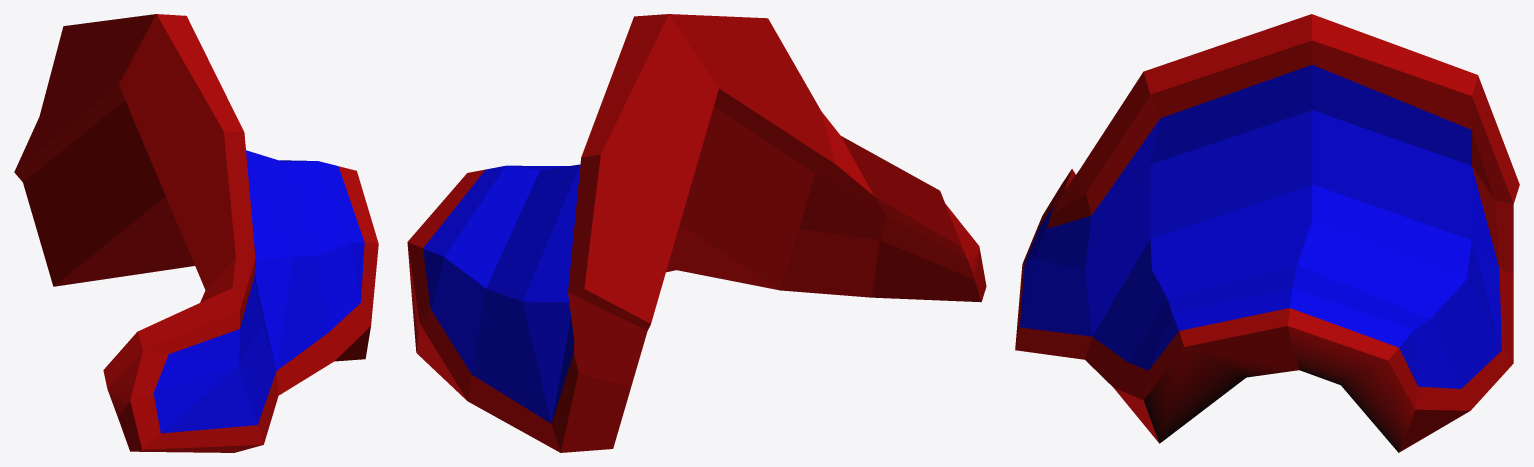
File: Chr_ShoulderAttachLeft_Static_07.fbx
3 views of the same model, side by side, from view 1: azimuth 30°, elevation 25°; view 2: azimuth 150°, elevation 25°; view 3: azimuth 270°, elevation 25° (orthographic). The views are drawn at different scales.
Parts seen in each view (by area): view 1: Chr_ShoulderAttachLeft_07; view 2: Chr_ShoulderAttachLeft_07; view 3: Chr_ShoulderAttachLeft_07.
Boxes of the visible parts, x1,y1,x2,y2 form: Chr_ShoulderAttachLeft_07: (14,14,378,452); Chr_ShoulderAttachLeft_07: (407,14,986,452); Chr_ShoulderAttachLeft_07: (1015,14,1519,452).
Size of the model in its own units: 37.28 by 33.6 by 42.57.
